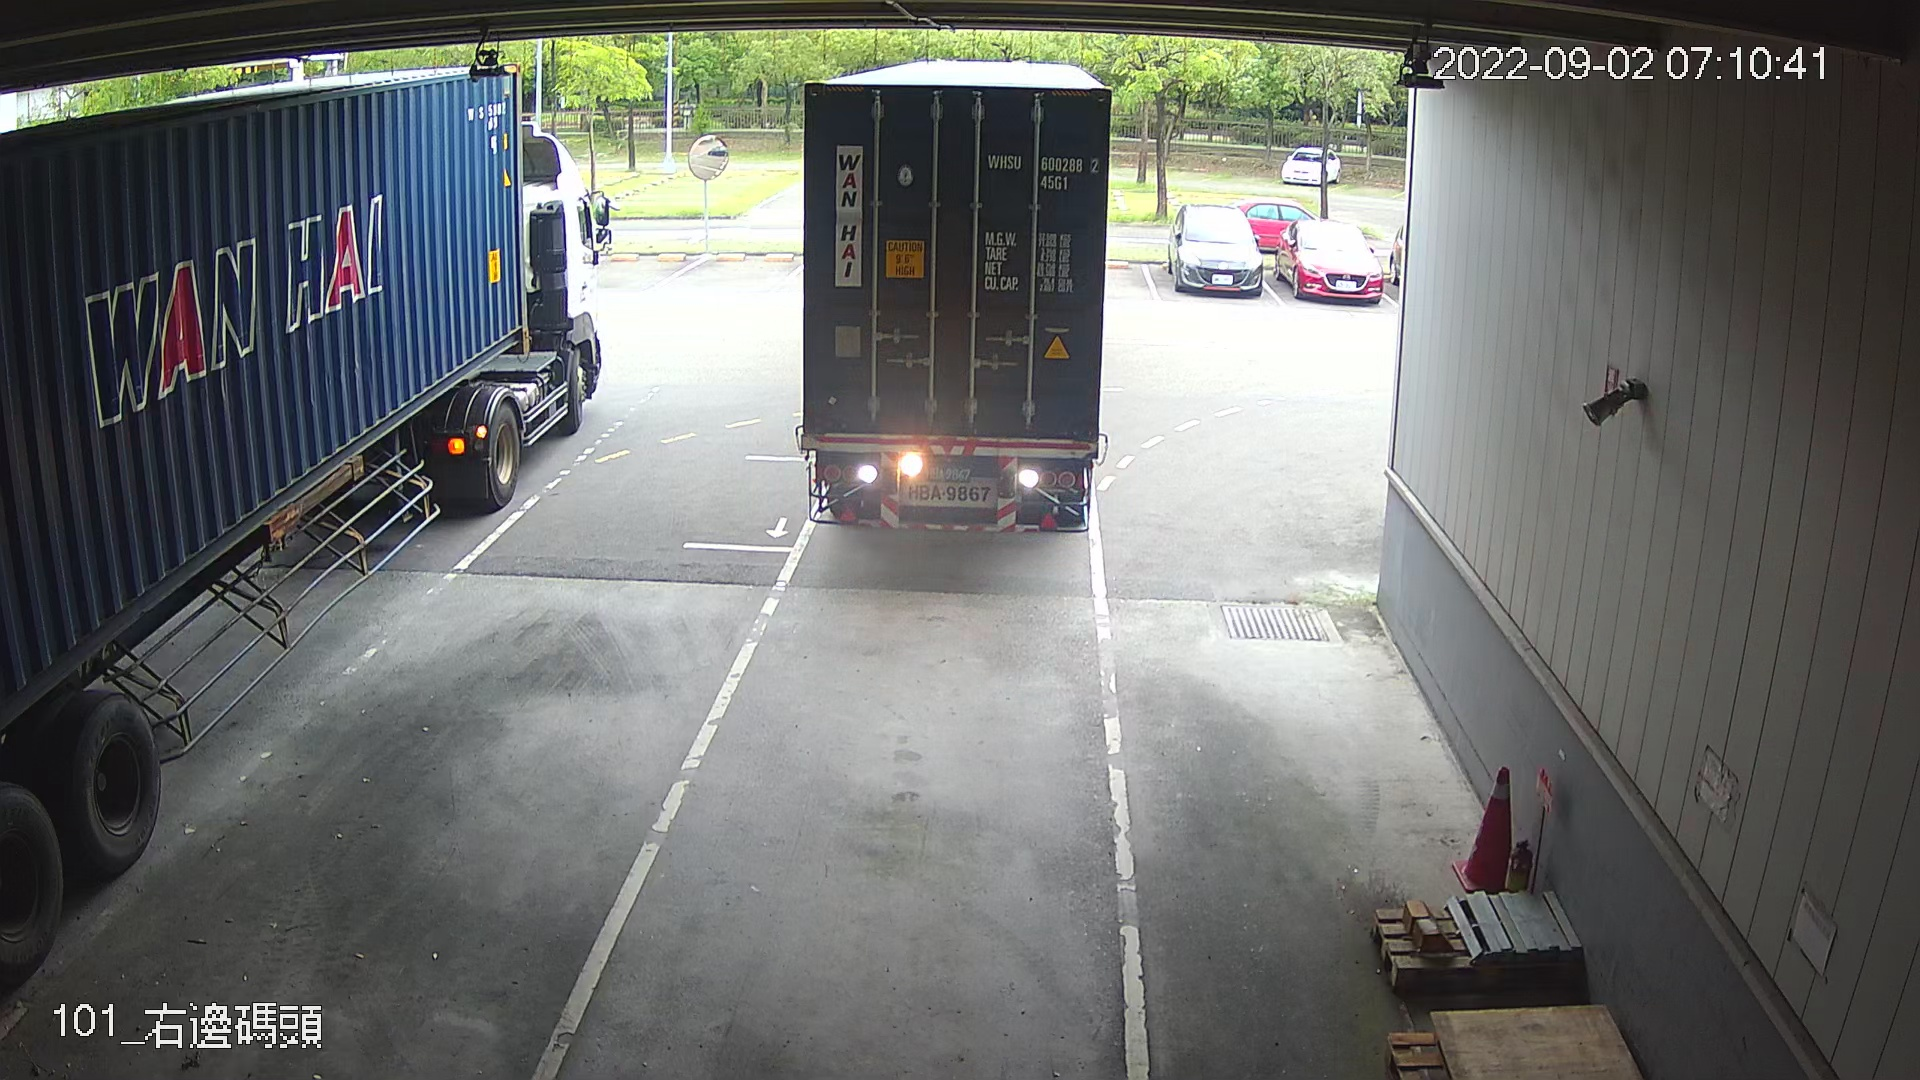container: (981, 142, 1104, 199)
